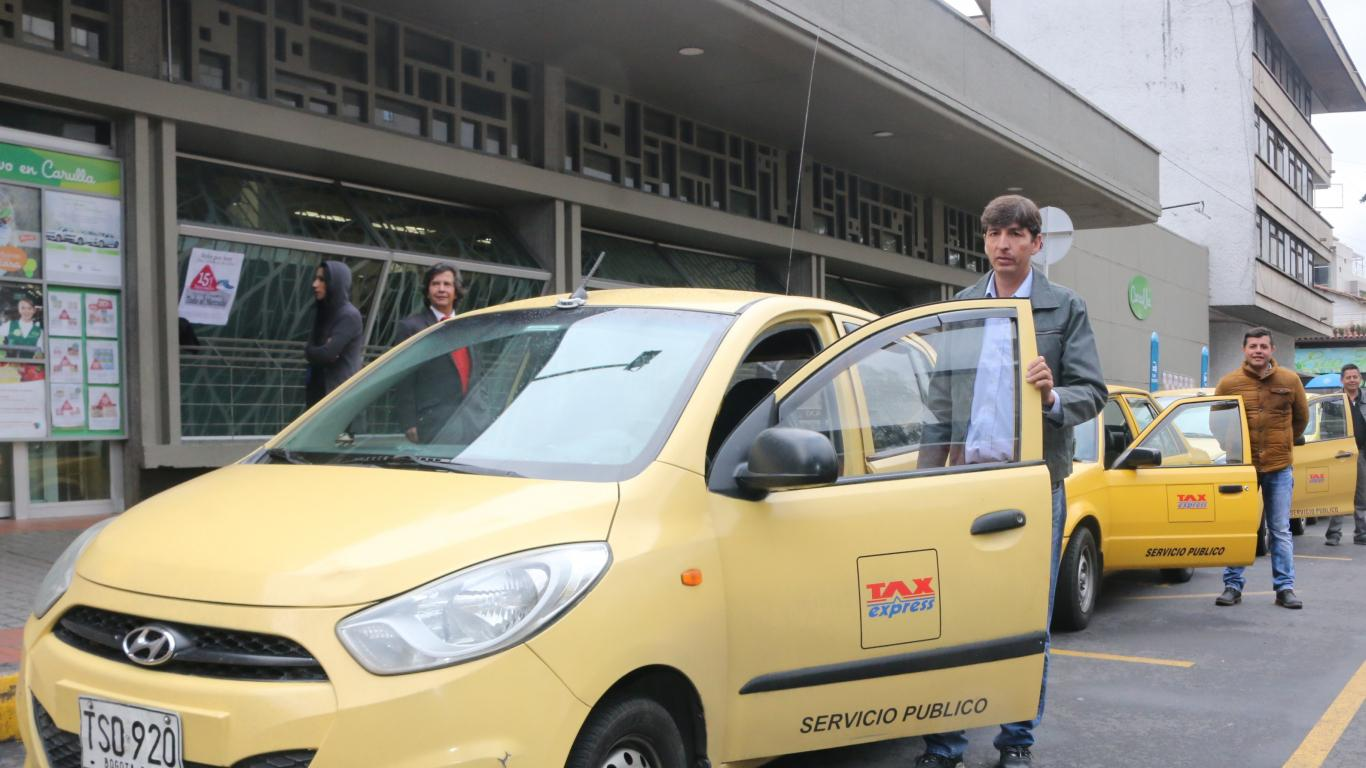taxi: (45, 285, 1031, 768)
